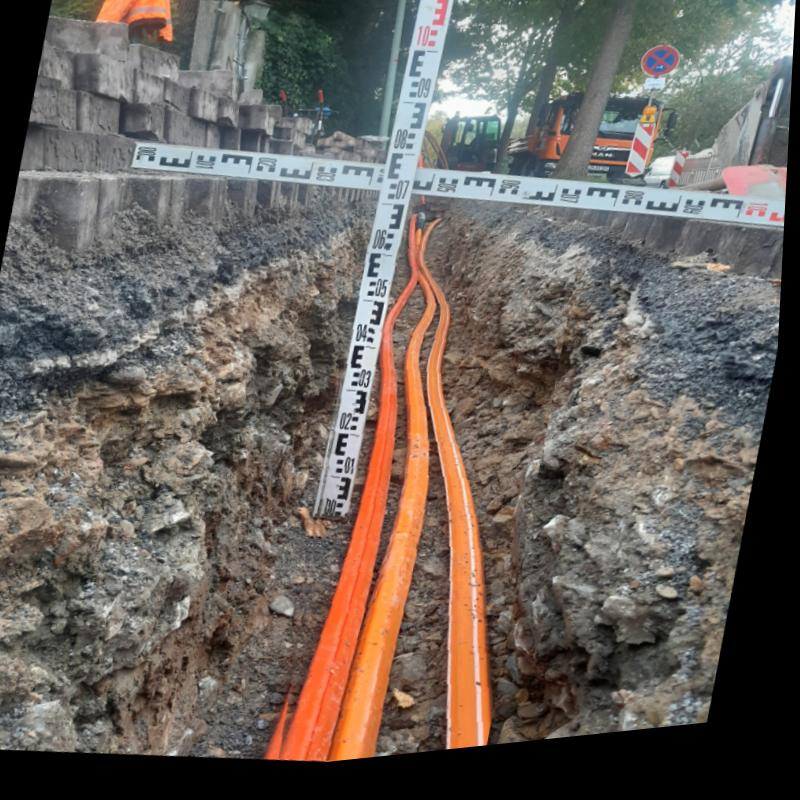Orang-Speednetrohrchen: (285, 257, 497, 769)
